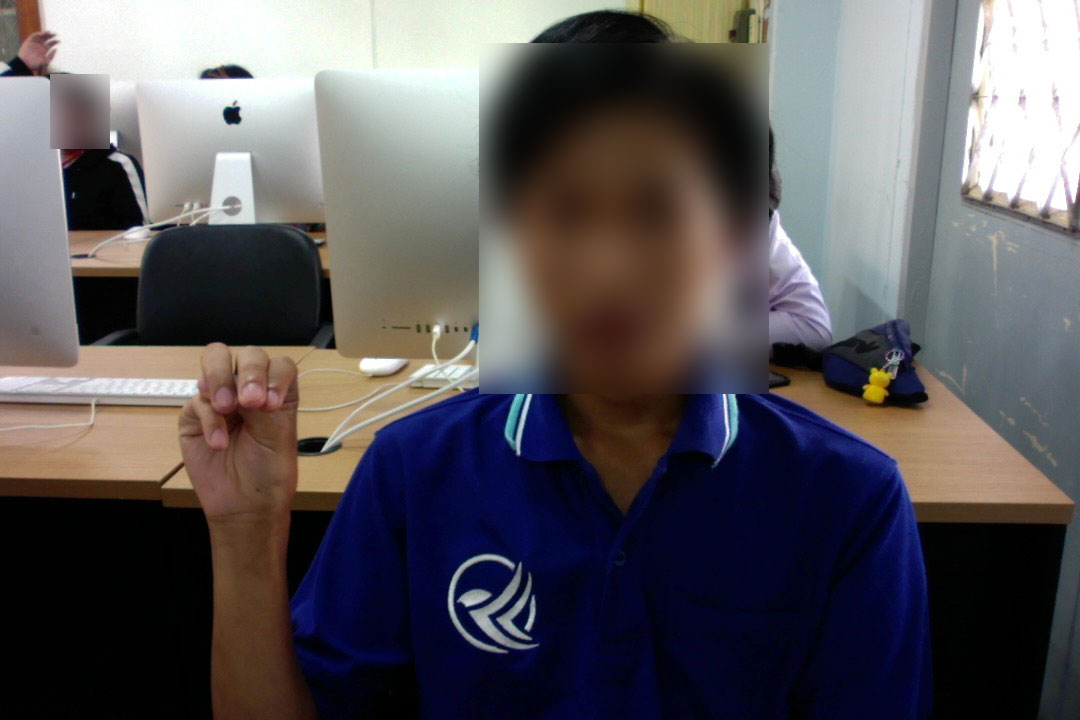mor: (169, 338, 307, 544)
